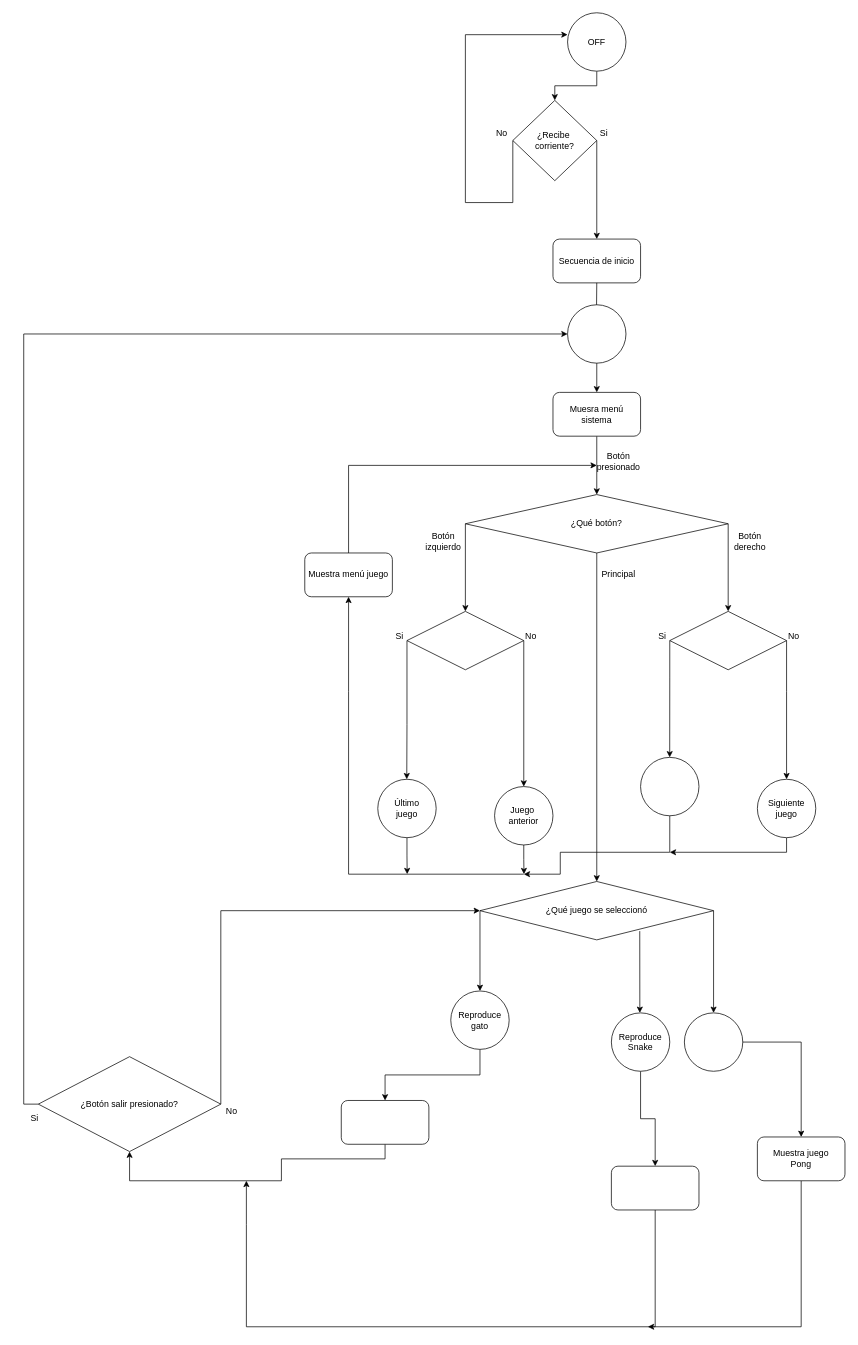
Image size: 858x1345. Some labels were removed from this diagram. Each missing label, with the box of its shape:
Menú sistema: (567, 304, 626, 363)
Muestra juego Gato: (341, 1100, 429, 1144)
Muestra juego Snake: (611, 1165, 699, 1210)
Primer juego: (640, 757, 699, 816)
Reproduce Pong: (684, 1012, 743, 1071)
¿Tope derecho de juegos?: (669, 611, 787, 670)
¿Tope izquierdo de juegos?: (406, 611, 524, 670)
